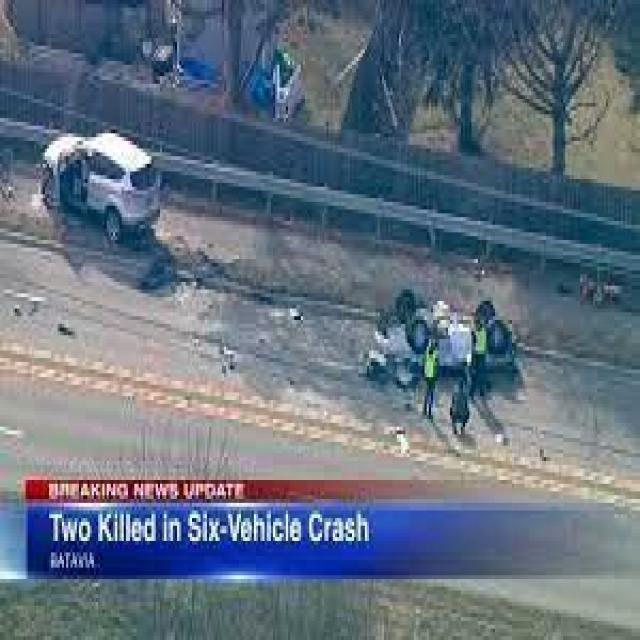multiple_accident: (30, 125, 562, 425)
